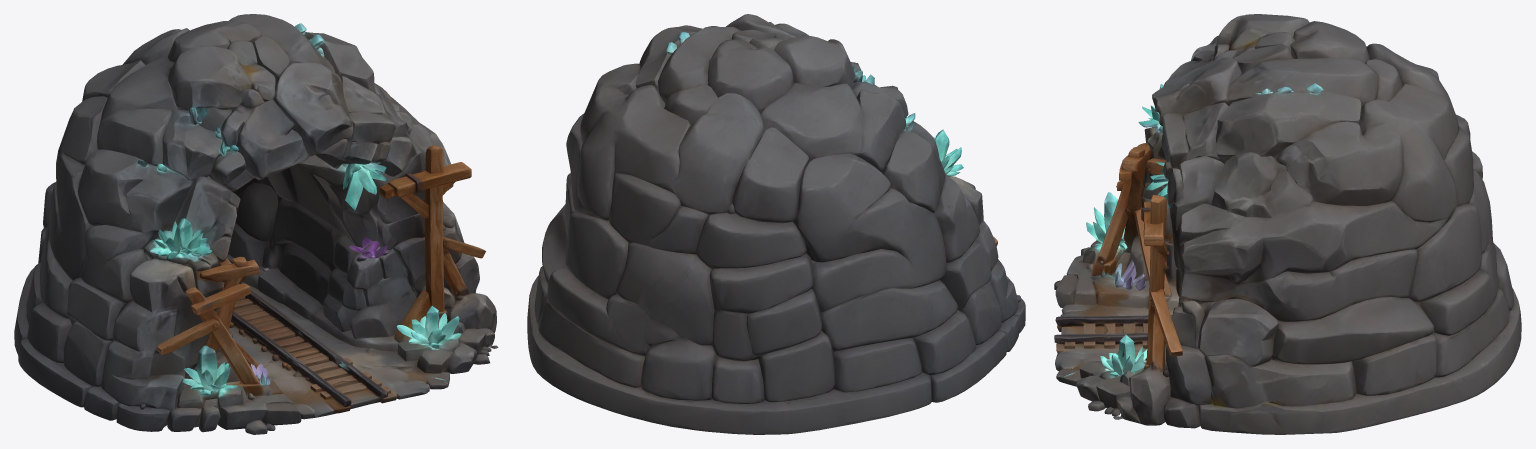
Rendered from cave-entrance-desktop.glb.
3 renders of one model, left to right at view 1: azimuth 30°, elevation 25°; view 2: azimuth 150°, elevation 25°; view 3: azimuth 270°, elevation 25°, orthographic. The views are drawn at different scales.
Visible parts, largest first — view 1: model; view 2: model; view 3: model.
Part boxes in pixels (bbox=[...]): model: bbox=[14, 14, 498, 434]; model: bbox=[527, 14, 1025, 434]; model: bbox=[1054, 14, 1521, 434].
Bounding box in the file's own units: 1.9 × 1.3 × 1.82.
Materials: 1 (1 with a texture image).
